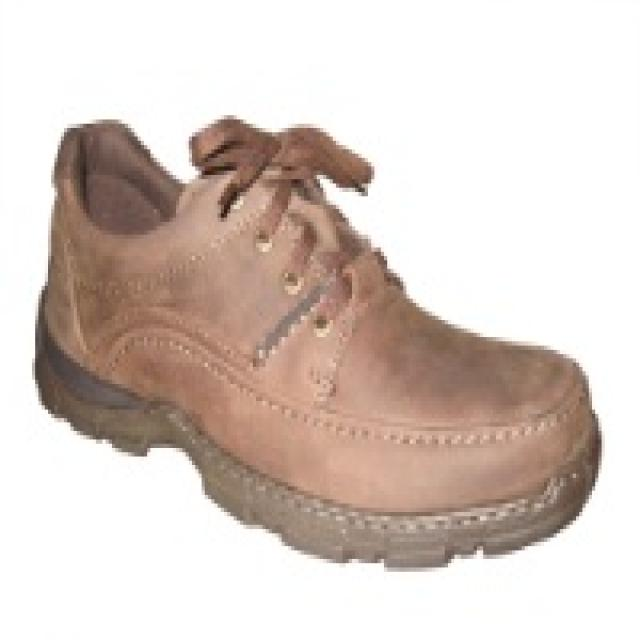shoe: (36, 107, 602, 574)
